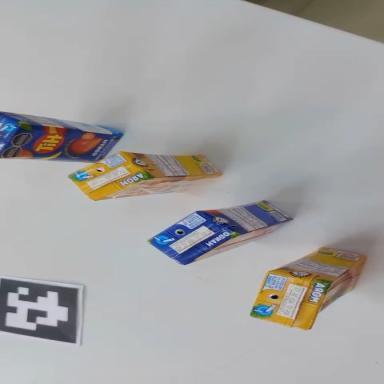HIT-MANGO: (145, 179, 293, 276), (0, 112, 124, 174)
HIT-MORA: (249, 222, 368, 349), (67, 140, 223, 203)
cara_F: (0, 122, 123, 169), (299, 255, 377, 329), (182, 217, 292, 265), (96, 170, 219, 200)
